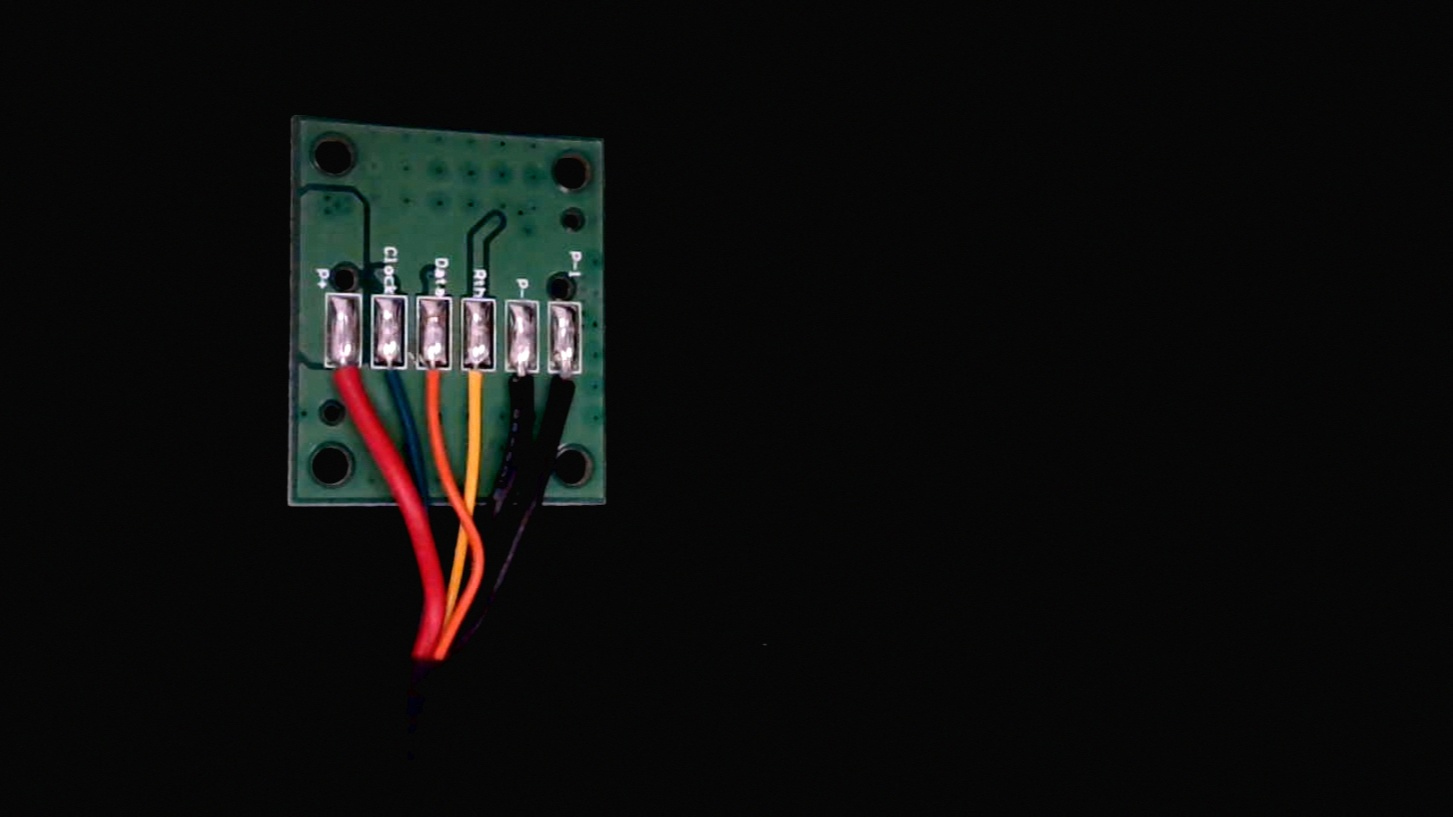Black: (505, 348, 544, 432)
Black1: (553, 353, 592, 430)
Green: (375, 341, 411, 410)
Orange: (420, 343, 457, 426)
Red: (325, 345, 361, 416)
Yellow: (462, 346, 502, 431)
